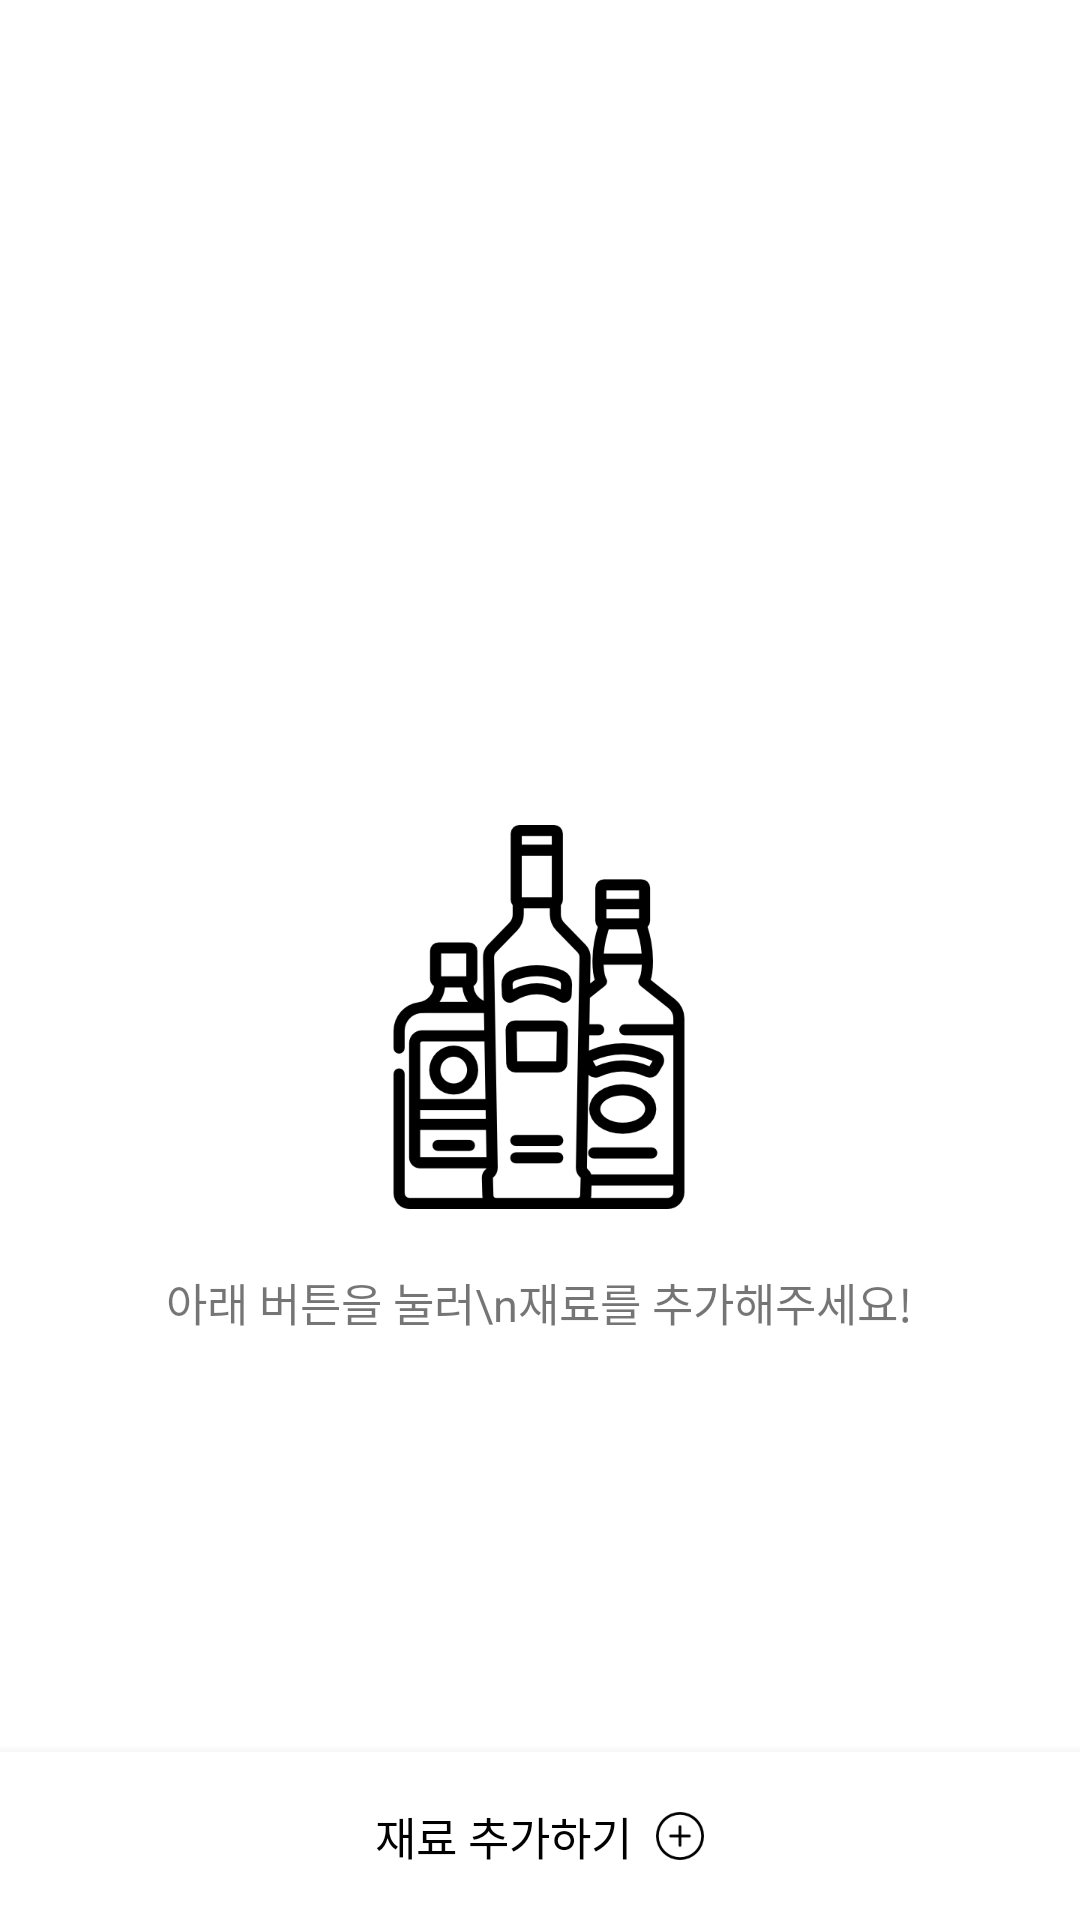

Named icons in this screenshot (1080px x 1920px) and their bounding boxes, box(x1, y1, x2, y2):
add: box(656, 1812, 704, 1860)
